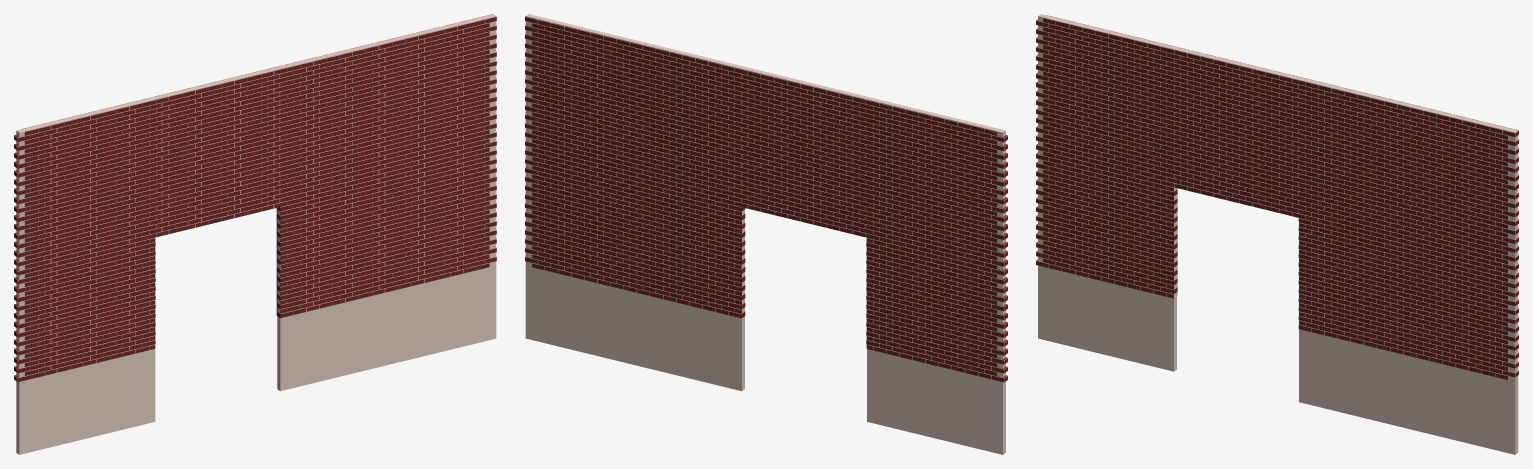
Rendered from Mur_Porte.fbx.
The picture shows the model from 3 angles, left to right: view 1: azimuth 30°, elevation 25°; view 2: azimuth 150°, elevation 25°; view 3: azimuth 330°, elevation 25°; orthographic projection.
Parts seen in each view (by area): view 1: Mur_Brique_Porte, Mur_Plain_Porte; view 2: Mur_Brique_Porte, Mur_Plain_Porte; view 3: Mur_Brique_Porte, Mur_Plain_Porte.
Boxes of the visible parts, x1,y1,x2,y2 form: Mur_Brique_Porte: (14,14,496,382); Mur_Plain_Porte: (16,14,496,454); Mur_Brique_Porte: (525,16,1007,382); Mur_Plain_Porte: (525,14,1005,454); Mur_Brique_Porte: (1036,15,1518,379); Mur_Plain_Porte: (1038,14,1518,454).
Bounding box in the file's own units: 1869 × 1201 × 25.51.
